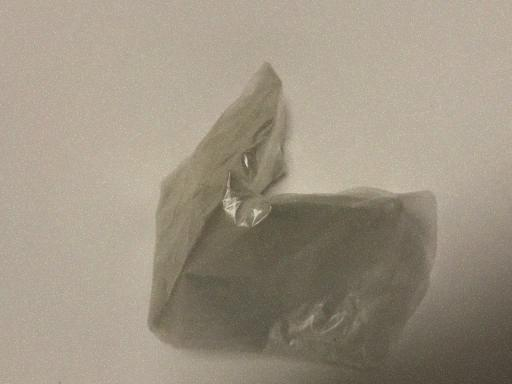trash: (148, 60, 455, 384)
